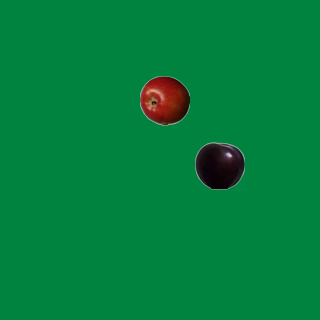Apple Braeburn: (139, 75, 189, 125)
Cherry Wax Black: (194, 140, 244, 190)
